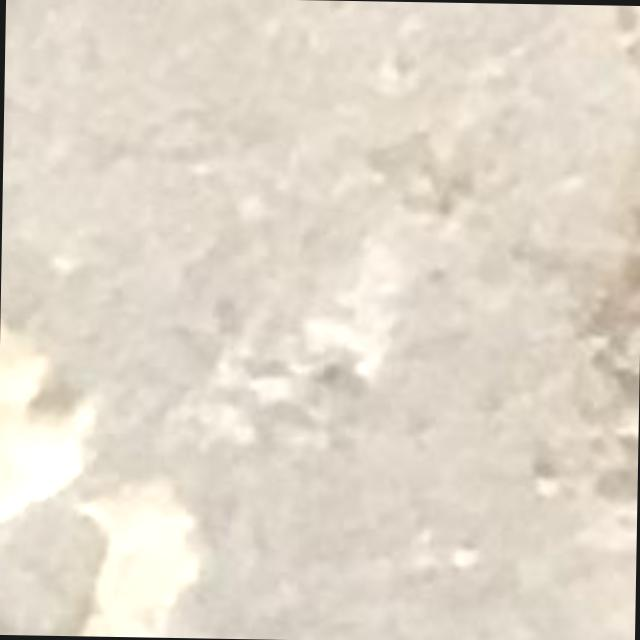peeling plaster: (0, 324, 93, 521)
